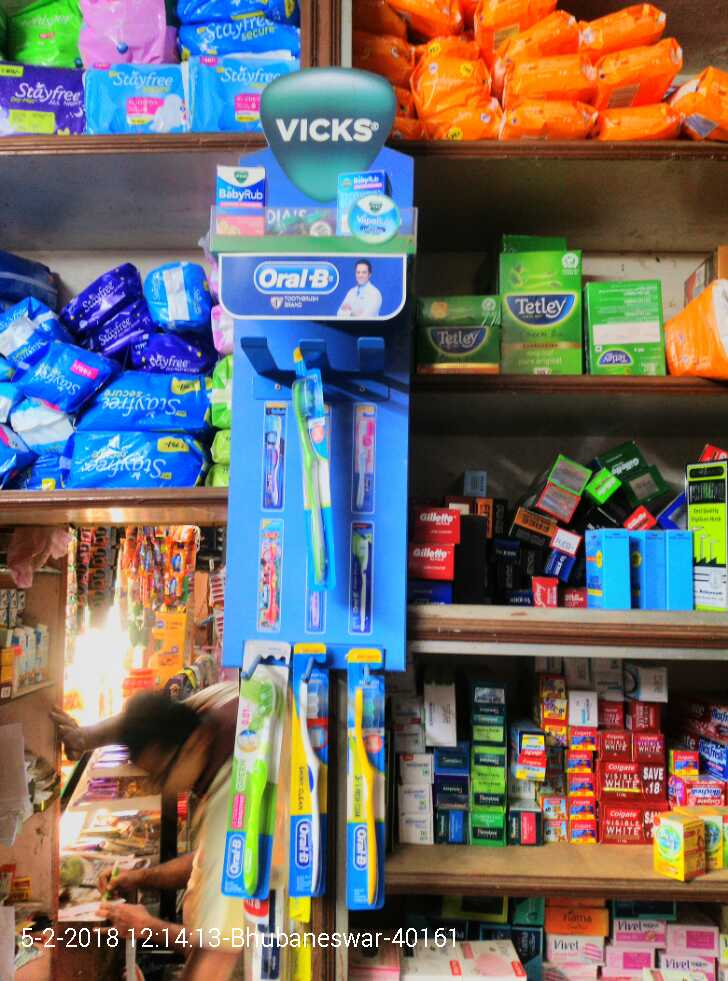pharmacy: (295, 373, 339, 633), (292, 657, 336, 910), (346, 657, 387, 910), (242, 646, 269, 899), (329, 170, 410, 249), (216, 162, 275, 239)
